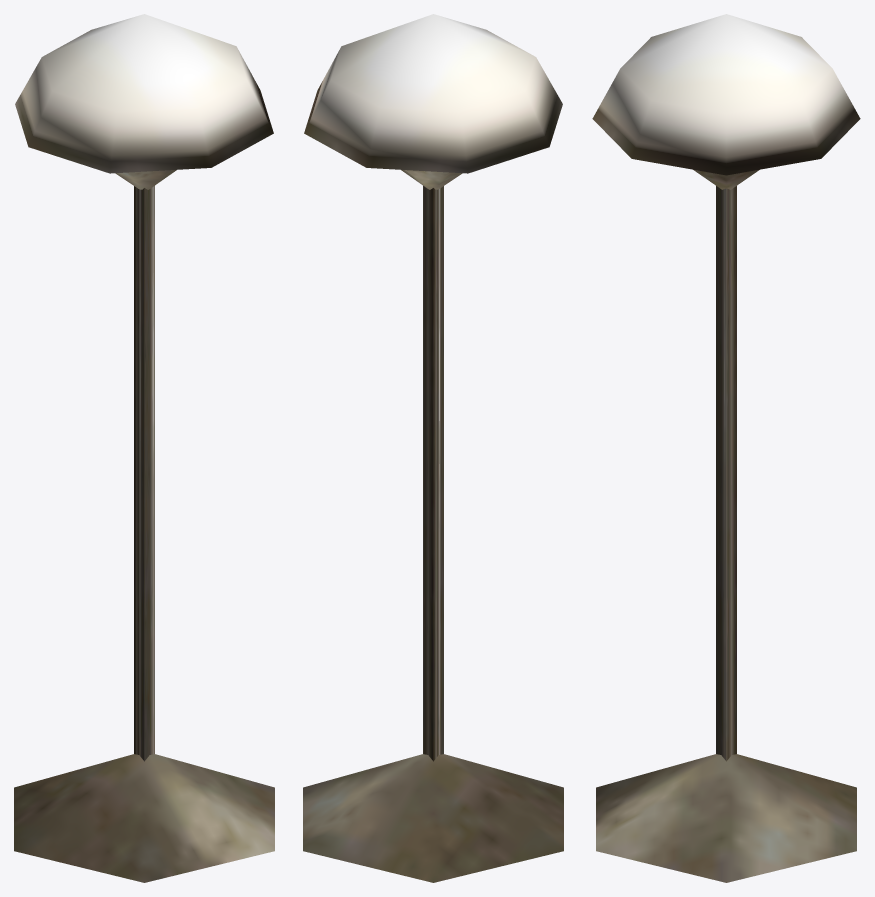
File: dojolamp1.fbx
The picture shows the model from 3 angles, left to right: view 1: azimuth 30°, elevation 25°; view 2: azimuth 150°, elevation 25°; view 3: azimuth 270°, elevation 25°; orthographic projection.
Visible parts, largest first — view 1: mesh_0, mesh_1, mesh_2; view 2: mesh_0, mesh_1, mesh_2; view 3: mesh_0, mesh_1, mesh_2.
Part boxes in pixels (box(x1,y1,x2,y2)): mesh_0: box(15, 14, 273, 189); mesh_1: box(14, 754, 274, 882); mesh_2: box(134, 186, 154, 761); mesh_0: box(304, 14, 562, 189); mesh_1: box(303, 754, 563, 882); mesh_2: box(423, 186, 443, 761); mesh_0: box(592, 14, 860, 189); mesh_1: box(596, 754, 856, 882); mesh_2: box(716, 186, 736, 761).
Bounding box in the file's own units: 47.57 × 140 × 42.35.
1 material, 1 textured.
